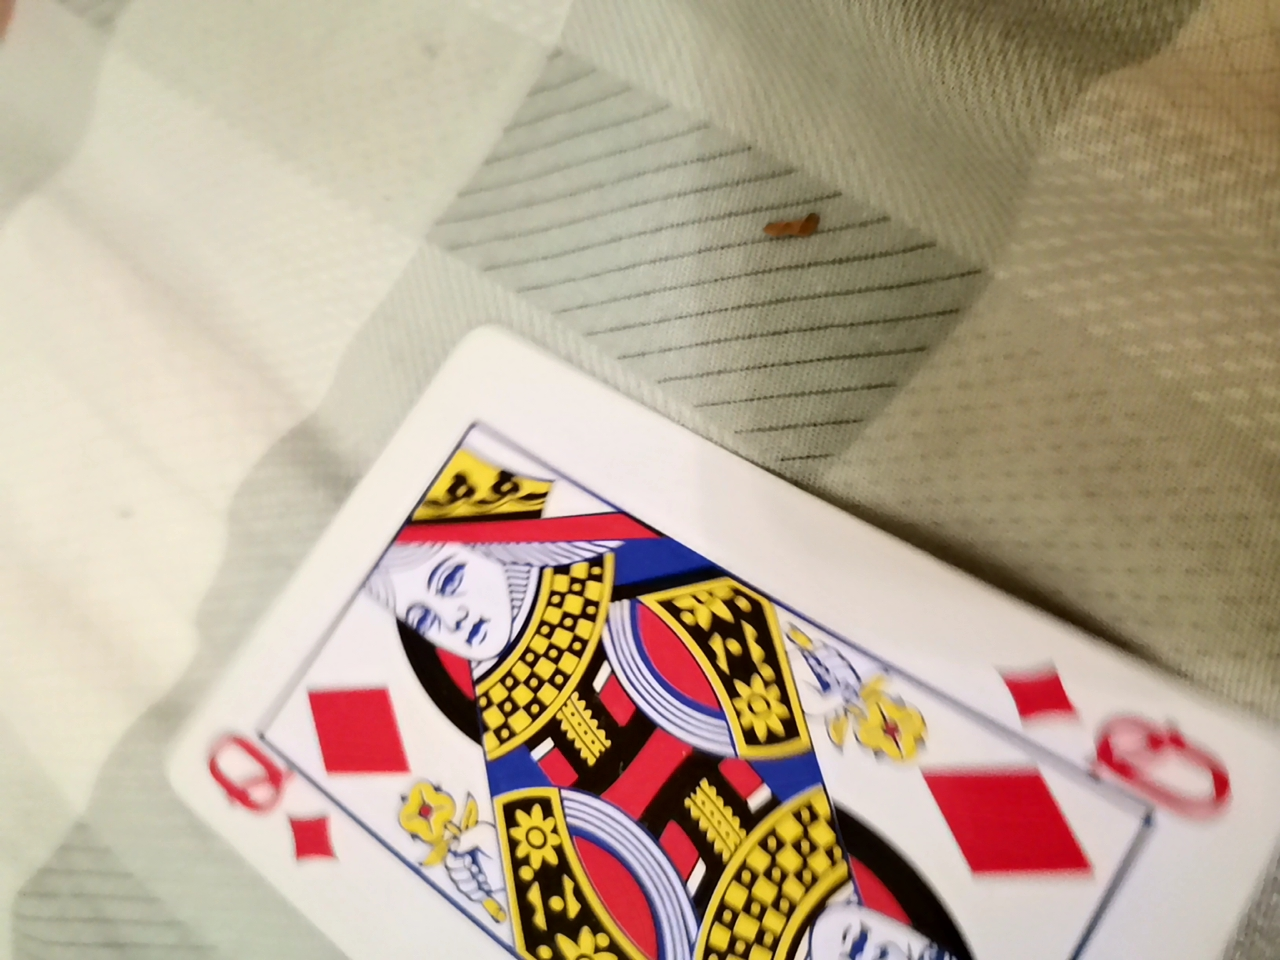fk q: (151, 311, 1266, 955)
